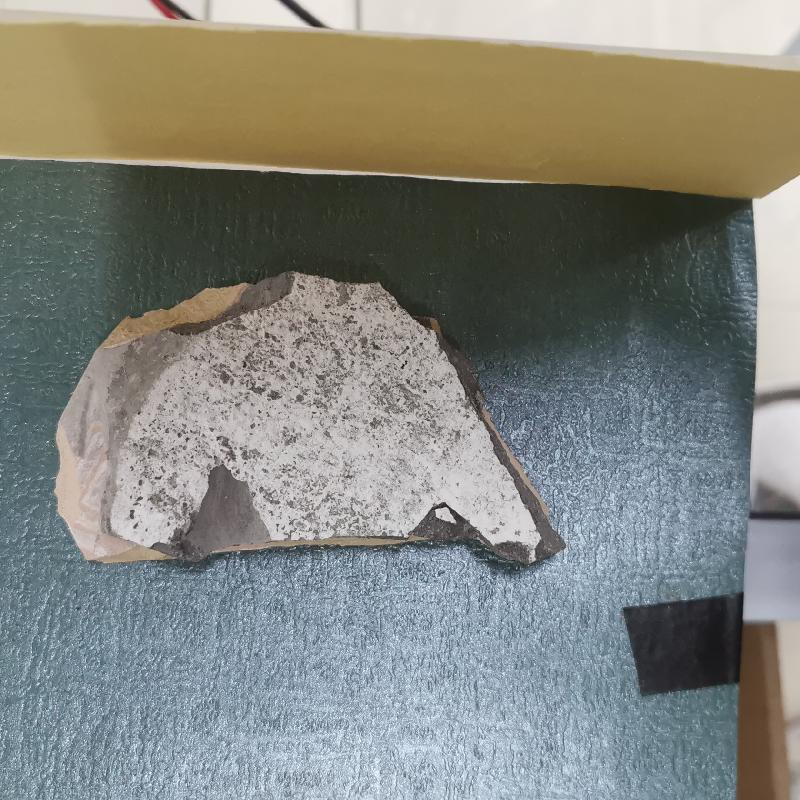tile: (39, 275, 590, 601)
